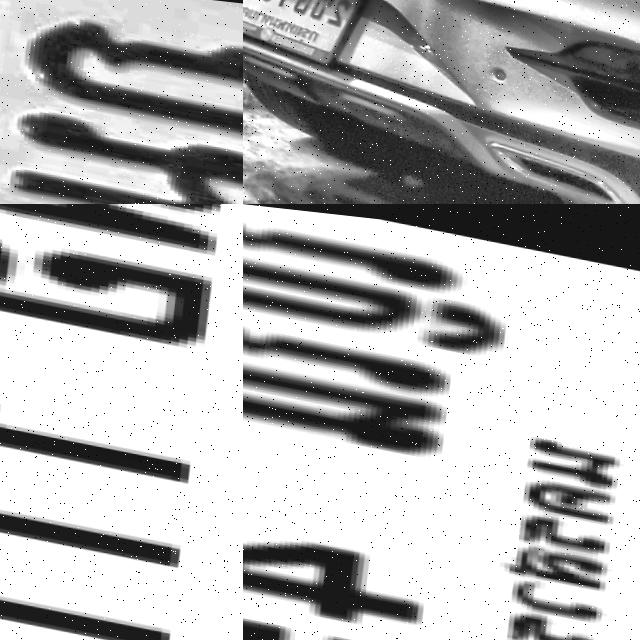license-plate: (243, 204, 640, 640), (0, 204, 243, 640), (0, 0, 243, 204), (403, 0, 548, 67)
